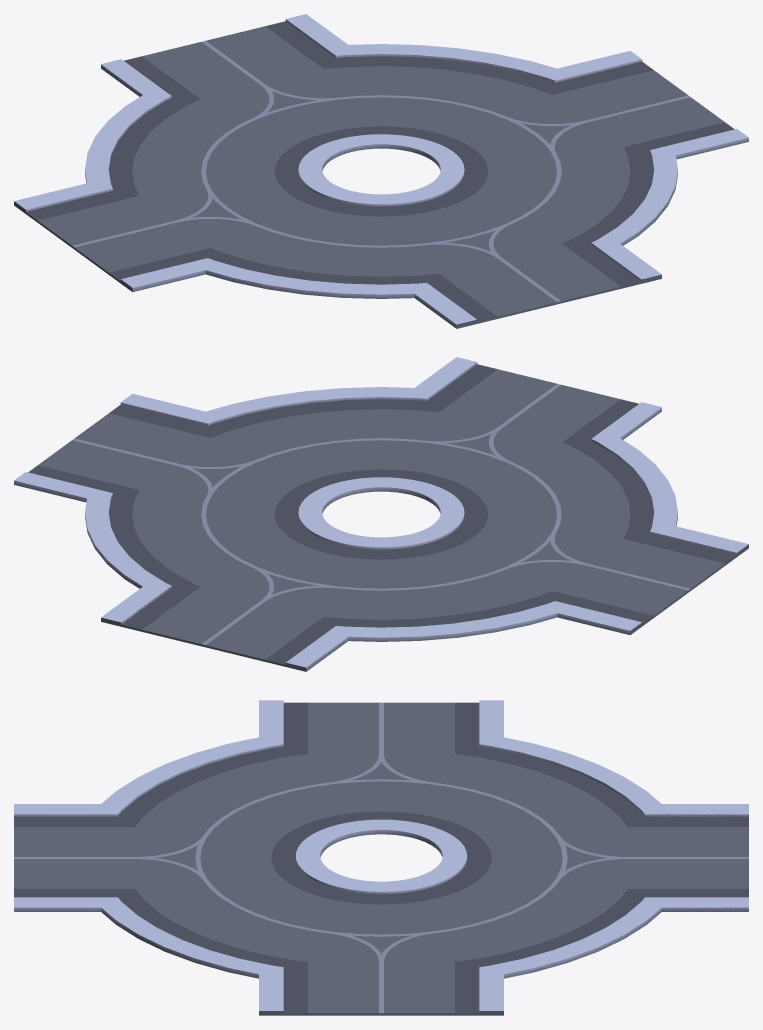
The model's file is roads.road_roundabout.glb.
The picture shows the model from 3 angles, top to bottom: view 1: azimuth 30°, elevation 25°; view 2: azimuth 150°, elevation 25°; view 3: azimuth 270°, elevation 25°; orthographic projection. The views are drawn at different scales.
Parts seen in each view (by area): view 1: road-roundabout; view 2: road-roundabout; view 3: road-roundabout.
Boxes of the visible parts, left/top/right/bottom form: road-roundabout: left=14, top=14, right=748, bottom=328; road-roundabout: left=14, top=357, right=748, bottom=671; road-roundabout: left=14, top=700, right=748, bottom=1015.
Bounding box in the file's own units: 22.34 × 0.15 × 22.34.
Materials: 1 (1 with a texture image).
